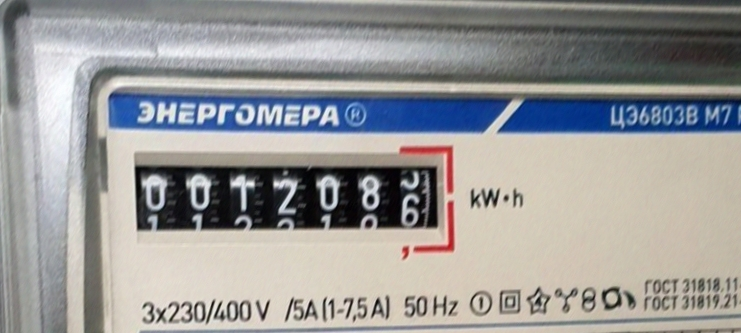0: (184, 169, 214, 212), (141, 169, 167, 212), (315, 172, 340, 212)
1: (229, 170, 253, 212)
2: (273, 176, 299, 216)
6: (395, 190, 421, 227)
8: (357, 171, 381, 212)
screen: (123, 125, 467, 278)
